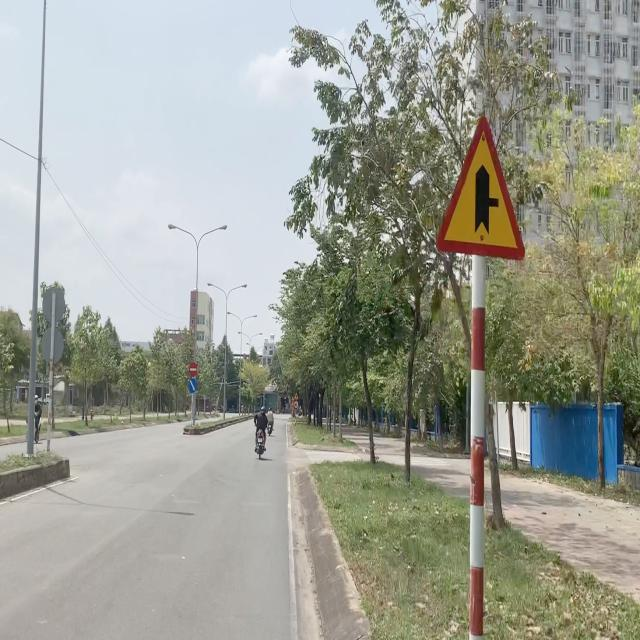Cam nguoc chieu: (188, 361, 198, 378)
Giao voi duong khong uu tien: (433, 116, 531, 267), (294, 391, 300, 400)
Hieu lenh: (188, 377, 197, 394)
Toc do toi da: (294, 401, 299, 408)
